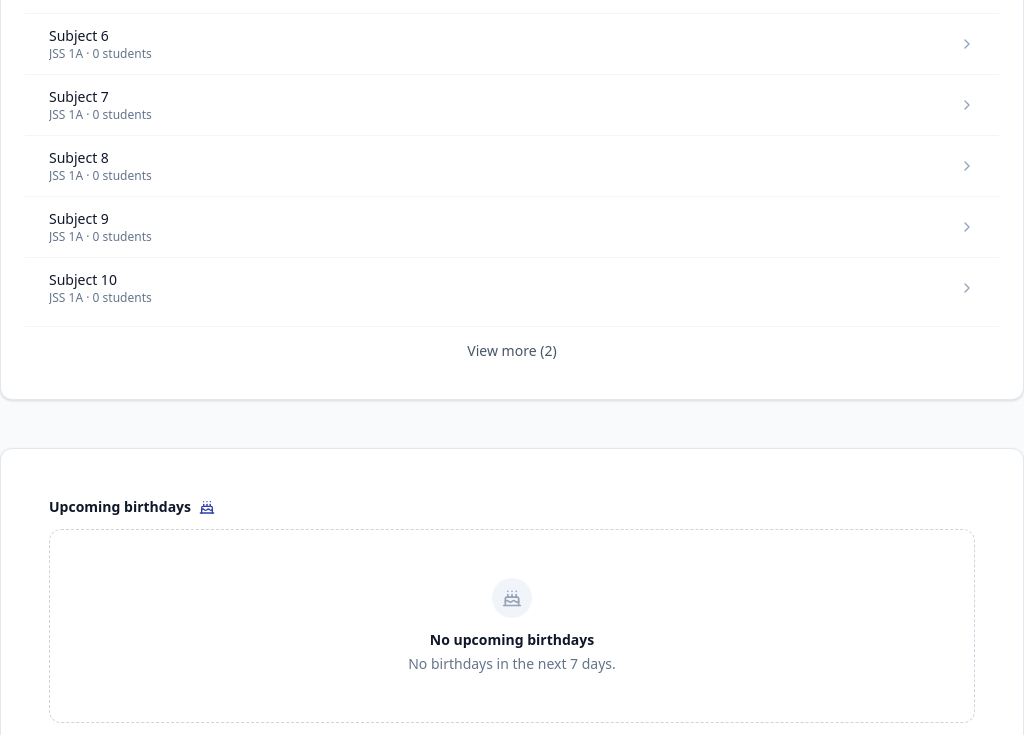
it: SchoolDashboardPage › caps the teacher's subjects at 10 rows, revealing the rest with View more
The image size is (1024, 735).
(page scrolled)
Check: the text "Subject 10" is shown, box [49, 270, 117, 289]
Check: the text "Subject 11" is not shown
What coordinates should you click on to do the following:
click the button "View more (2)"
I would click on:
 (512, 351)
Its box is [455, 335, 569, 367].
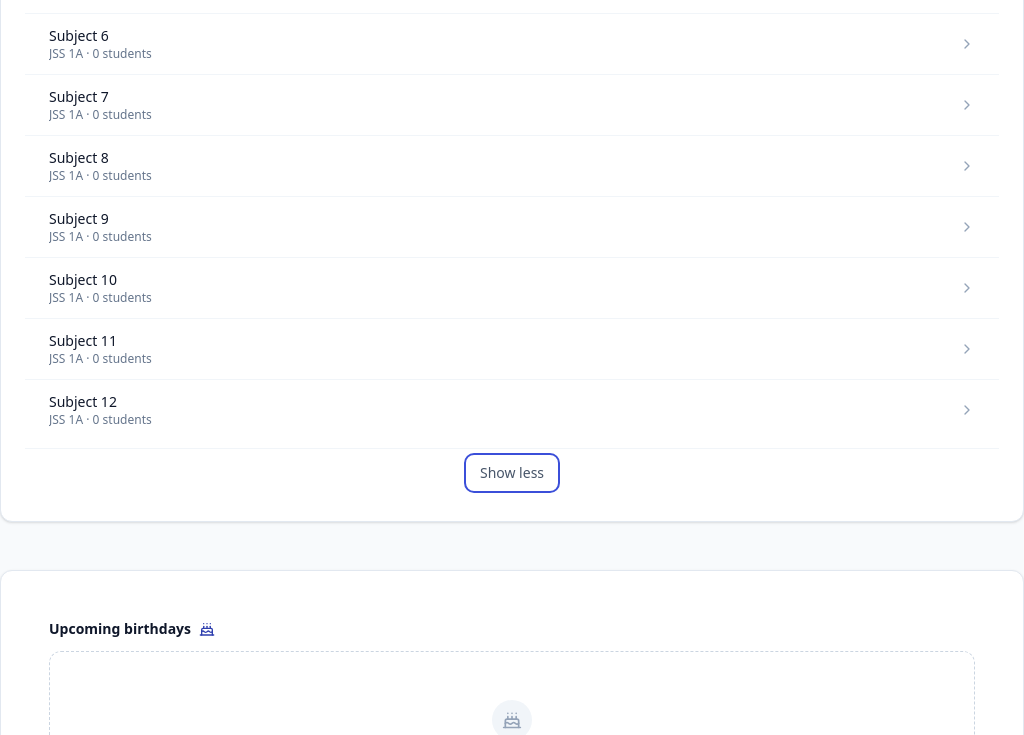
Check: the text "Subject 12" is shown, box [49, 392, 117, 411]
What coordinates should you click on to do the following:
click the button "Show less"
I would click on:
 (512, 473)
Its box is [468, 457, 556, 489].
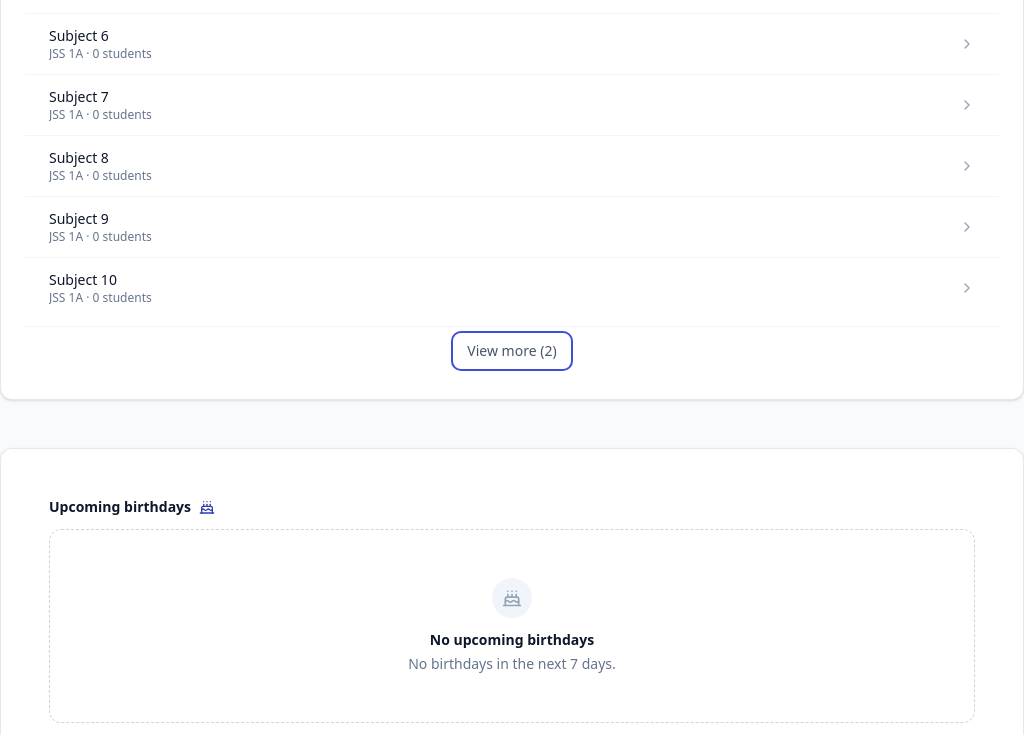
Check: the link "Subject 11" is gone
